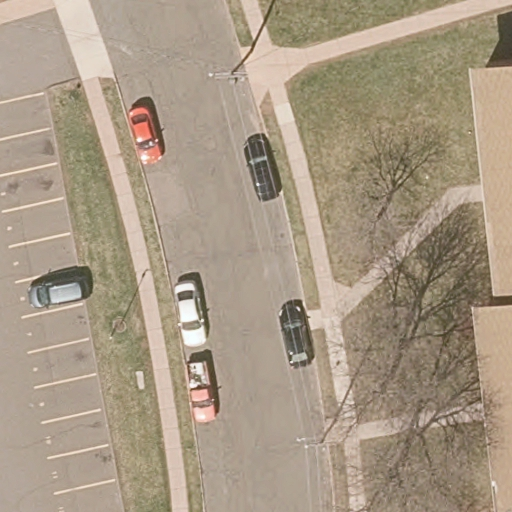DT: (206, 47, 255, 85), (297, 418, 337, 454)
